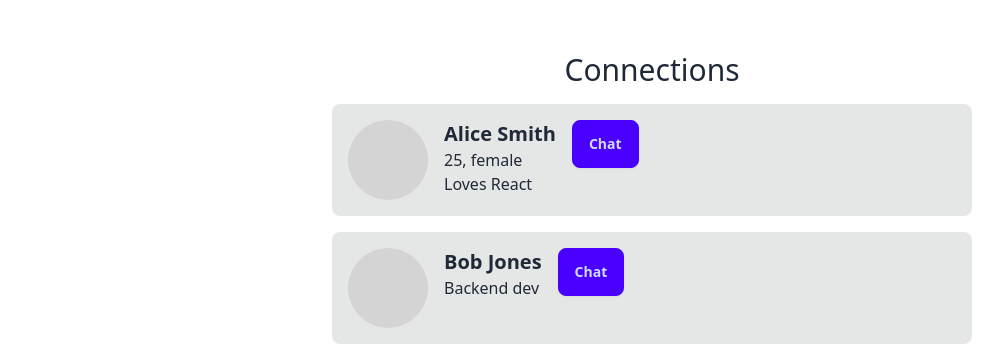
Scenario: Connections › navigates to the chat page when Chat is clicked
What coordinates should you click on to do the following:
click the button "Chat" next to "Bob Jones"
I would click on:
 (591, 272)
Its box is [558,248,624,296].
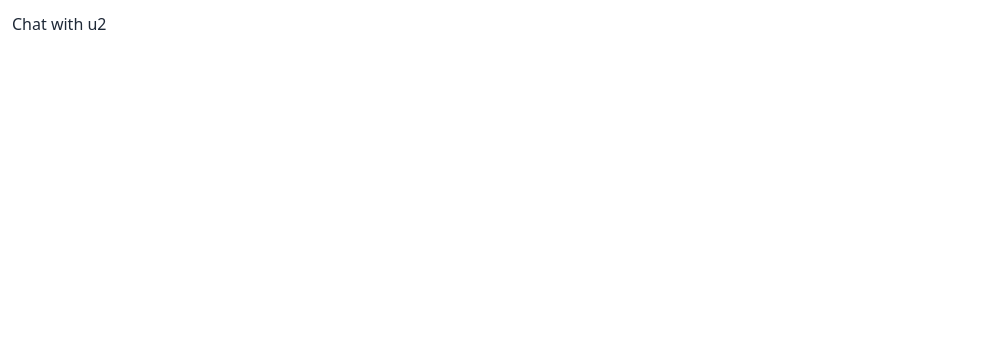
Expected: the text "Chat with u2" is shown, [12,13,106,35]
